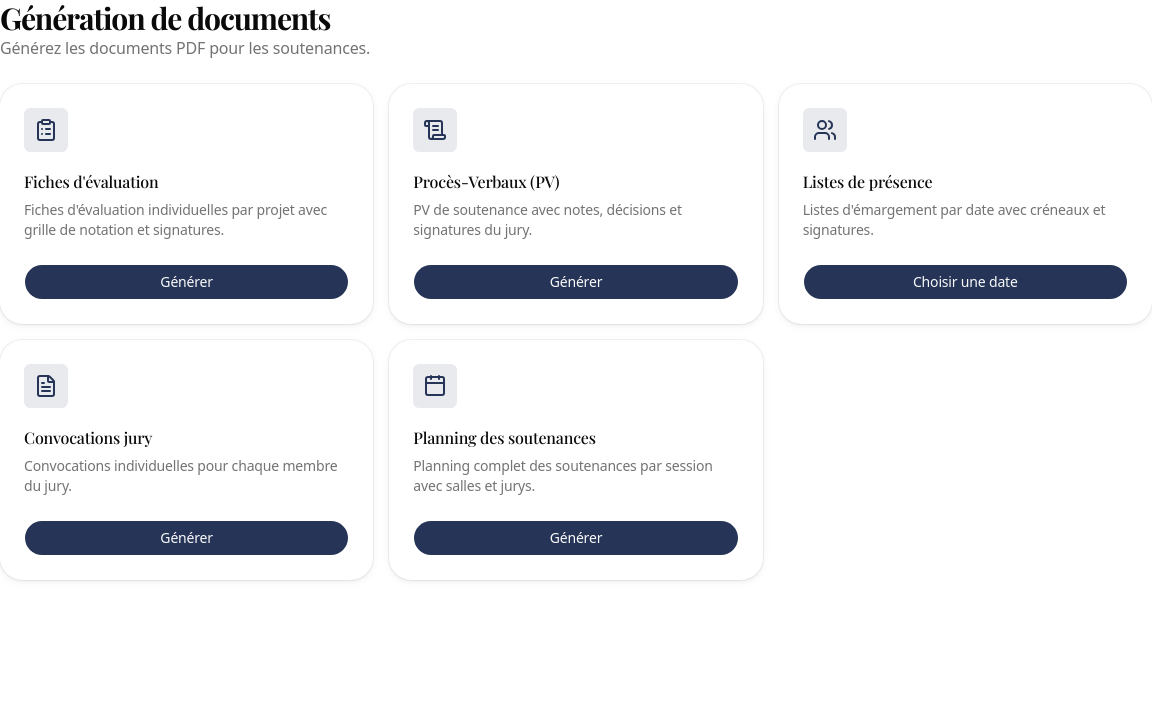
Scenario: Documents (Coordinator) › filters projects in picker dialog
Click the 1st button "Générer": (187, 282) [24,264,349,300]
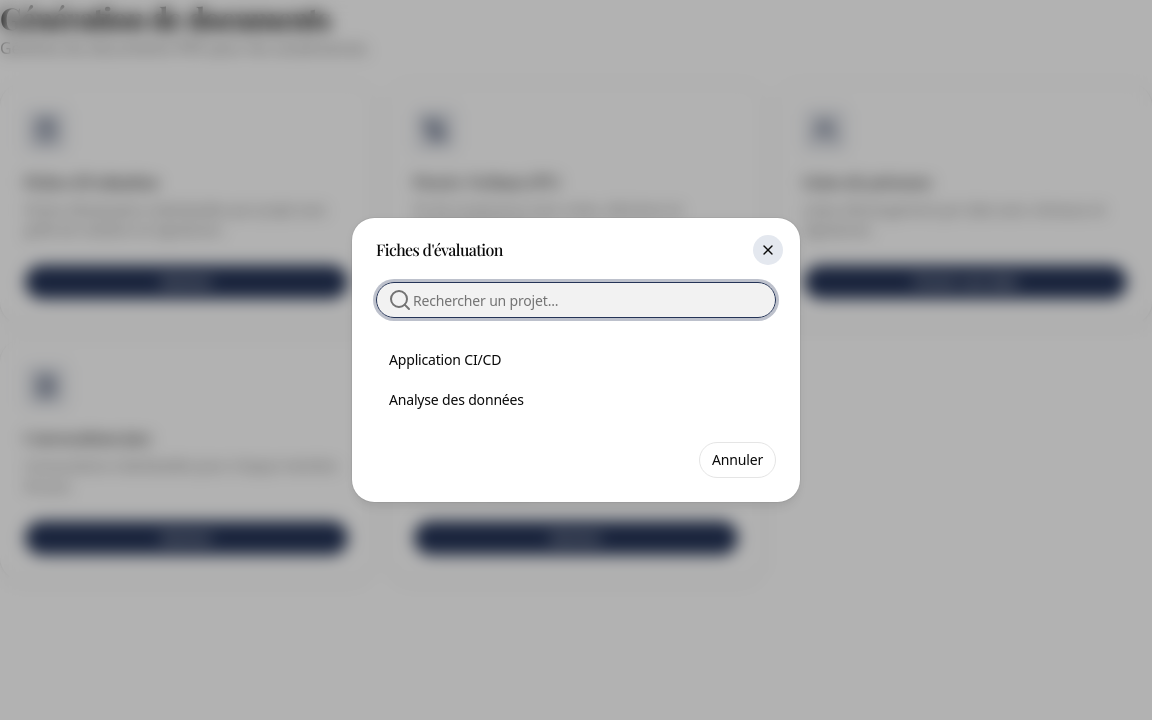
Now the dialog with test id "coord-documents-picker-dialog" is shown, box [352,218,800,502]
In the field with test id "coord-documents-picker-search": (576, 300) [376,282,776,318], type "CI/CD"
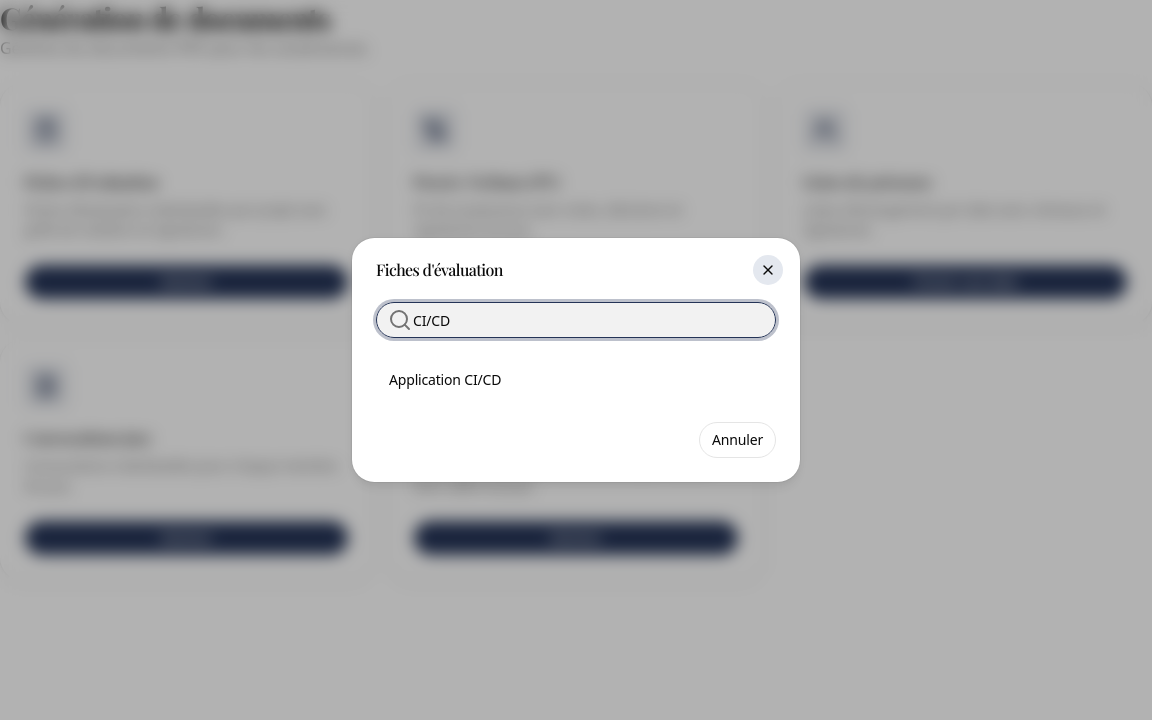
Now the button "Application CI/CD" is shown, box [376,362,776,398]
Now the button "Analyse des données" is gone
